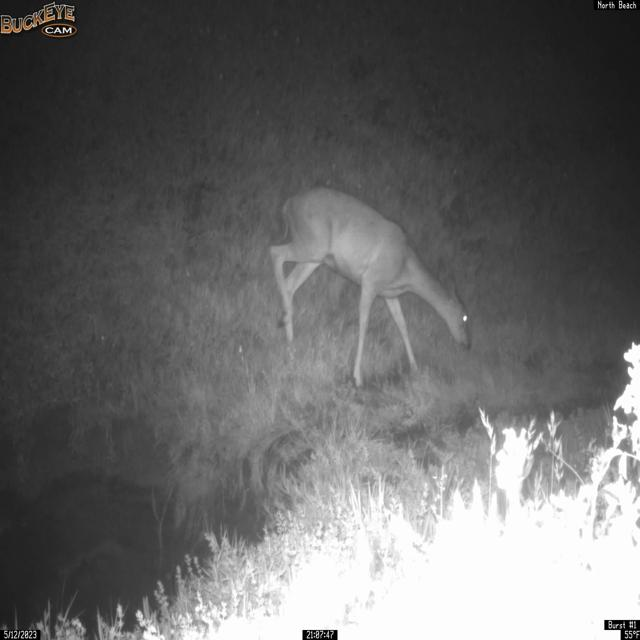deer: (268, 185, 472, 389)
